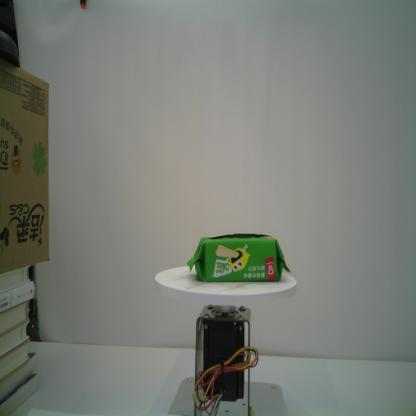Dessert: (185, 232, 292, 285)
